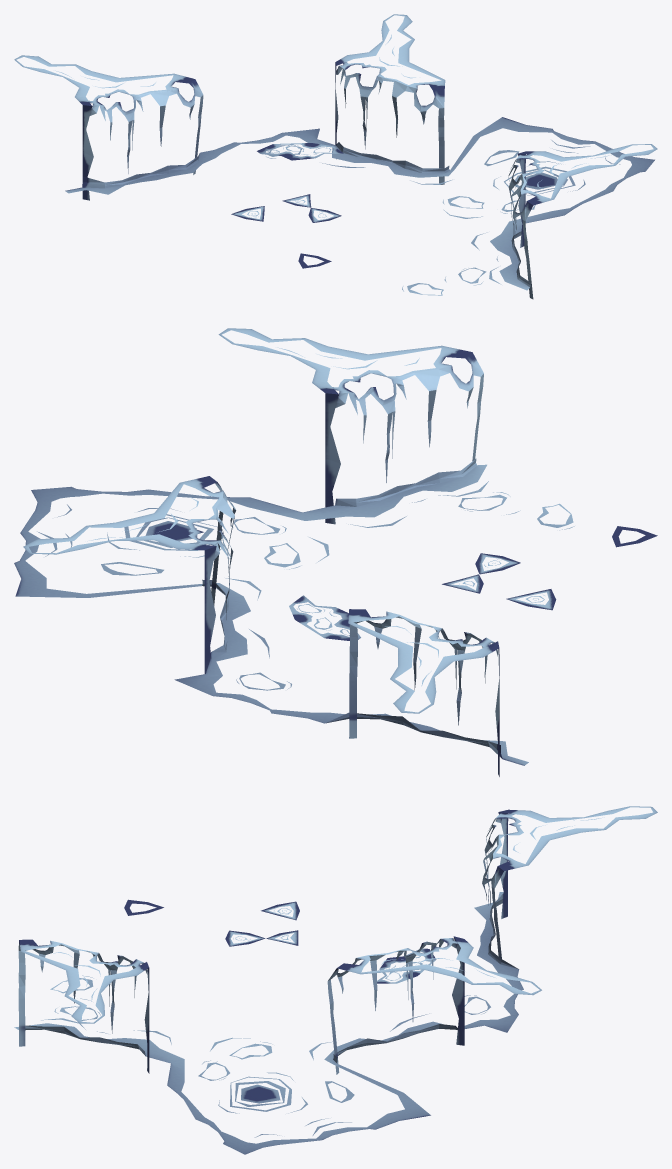
The model's file is Water_02.FBX.
3 views of the same model, one above another, from view 1: azimuth 30°, elevation 25°; view 2: azimuth 150°, elevation 25°; view 3: azimuth 270°, elevation 25° (orthographic). The views are drawn at different scales.
Parts seen in each view (by area): view 1: Water_02; view 2: Water_02; view 3: Water_02.
Boxes of the visible parts, box(x1,y1,x2,y2) form: Water_02: box(14, 14, 657, 299); Water_02: box(14, 328, 657, 776); Water_02: box(14, 806, 657, 1154).
Size of the model in its own units: 38.25 by 7.32 by 39.63.
